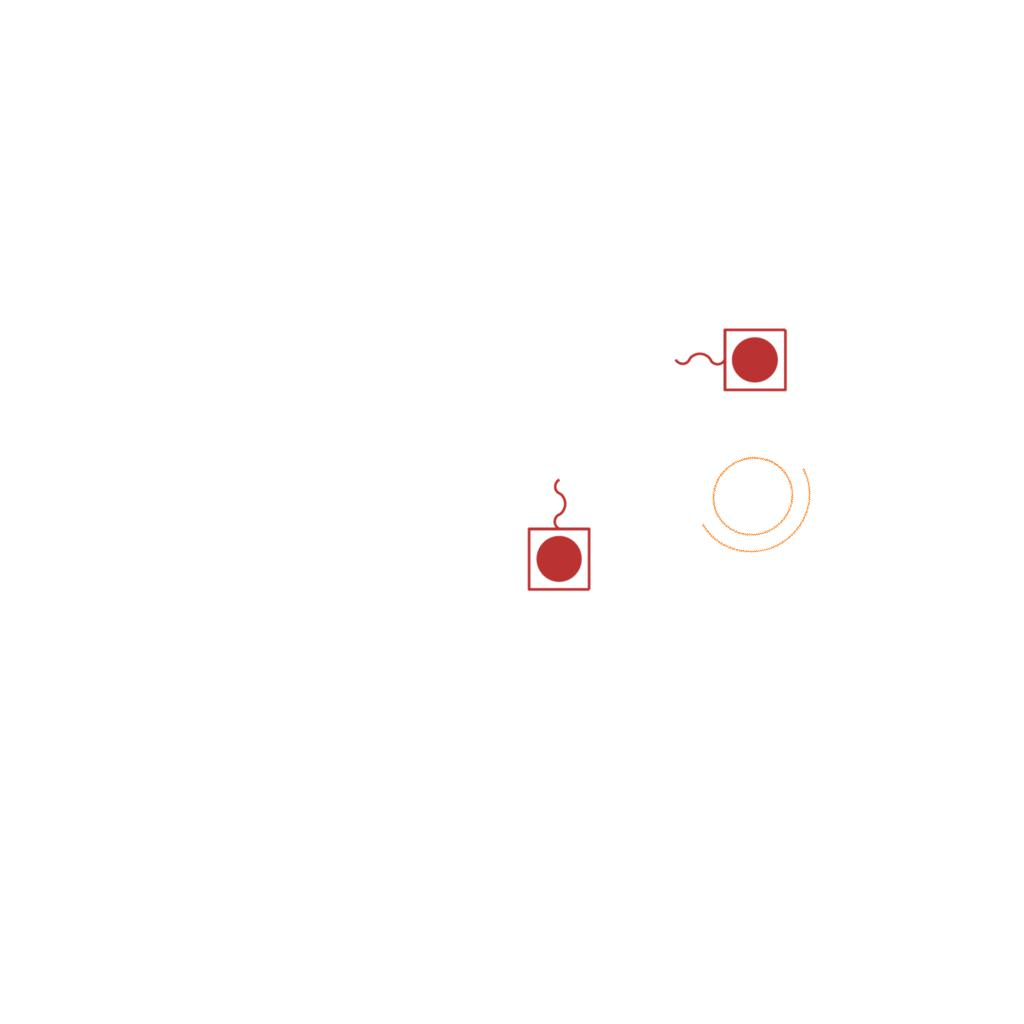Scheinwerfer_fuer_Alarmbeleuchtung: (673, 418, 843, 580)
Zugtaster: (669, 323, 791, 395), (524, 473, 596, 595)
